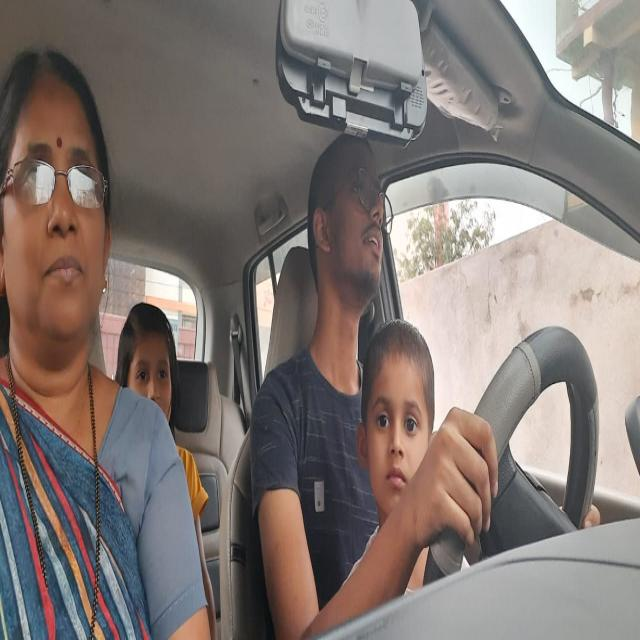child: (362, 327, 434, 491)
person: (3, 48, 114, 347), (304, 143, 390, 311), (121, 304, 181, 434)
